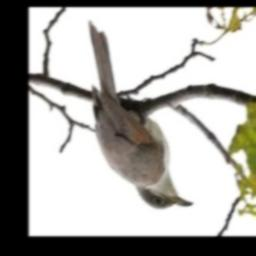Cuckoo: (89, 21, 194, 209)
